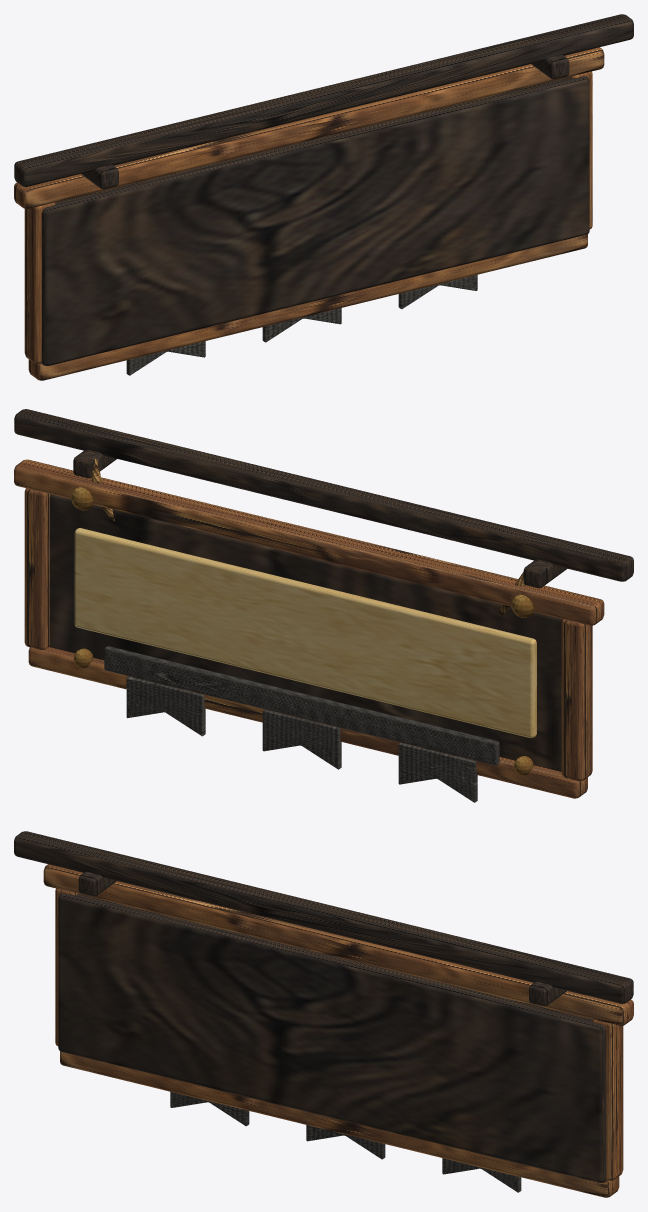
File: town-hanging-sign.glb
3 renders of one model, top to bottom at view 1: azimuth 30°, elevation 25°; view 2: azimuth 150°, elevation 25°; view 3: azimuth 330°, elevation 25°, orthographic.
Parts seen in each view (by area): view 1: town_hanging_sign_back_plate, town_hanging_sign_wall_bracket, town_hanging_sign_top_rail, town_hanging_sign_bottom_rail, town_hanging_sign_left_side_rail, town_hanging_sign_accent_pennant_0, town_hanging_sign_accent_pennant_1, town_hanging_sign_accent_pennant_2, town_hanging_sign_right_side_rail, town_hanging_sign_right_bracket_arm, town_hanging_sign_left_bracket_arm; view 2: town_hanging_sign_cream_inset, town_hanging_sign_back_plate, town_hanging_sign_wall_bracket, town_hanging_sign_top_rail, town_hanging_sign_accent_strip, town_hanging_sign_bottom_rail, town_hanging_sign_left_side_rail, town_hanging_sign_right_side_rail, town_hanging_sign_accent_pennant_0, town_hanging_sign_accent_pennant_2, town_hanging_sign_accent_pennant_1, town_hanging_sign_left_bracket_arm (+1 smaller); view 3: town_hanging_sign_back_plate, town_hanging_sign_wall_bracket, town_hanging_sign_top_rail, town_hanging_sign_bottom_rail, town_hanging_sign_right_side_rail, town_hanging_sign_accent_pennant_0, town_hanging_sign_accent_pennant_1, town_hanging_sign_accent_pennant_2, town_hanging_sign_left_side_rail, town_hanging_sign_left_bracket_arm, town_hanging_sign_right_bracket_arm.
Boxes of the visible parts, box(x1,y1,x2,y2) form: town_hanging_sign_back_plate: box(41, 76, 589, 365); town_hanging_sign_wall_bracket: box(14, 14, 633, 186); town_hanging_sign_top_rail: box(14, 47, 604, 208); town_hanging_sign_bottom_rail: box(28, 234, 587, 380); town_hanging_sign_left_side_rail: box(24, 202, 55, 363); town_hanging_sign_accent_pennant_0: box(126, 341, 205, 375); town_hanging_sign_accent_pennant_1: box(262, 308, 341, 342); town_hanging_sign_accent_pennant_2: box(398, 274, 477, 309); town_hanging_sign_right_side_rail: box(570, 71, 592, 229); town_hanging_sign_right_bracket_arm: box(531, 54, 569, 79); town_hanging_sign_left_bracket_arm: box(81, 164, 118, 189); town_hanging_sign_cream_inset: box(74, 528, 536, 737); town_hanging_sign_back_plate: box(49, 494, 562, 771); town_hanging_sign_wall_bracket: box(14, 409, 633, 581); town_hanging_sign_top_rail: box(14, 459, 604, 625); town_hanging_sign_accent_strip: box(104, 646, 499, 765); town_hanging_sign_bottom_rail: box(28, 647, 587, 798); town_hanging_sign_left_side_rail: box(561, 619, 592, 781); town_hanging_sign_right_side_rail: box(24, 488, 50, 649); town_hanging_sign_accent_pennant_0: box(398, 743, 477, 802); town_hanging_sign_accent_pennant_2: box(126, 676, 205, 736); town_hanging_sign_accent_pennant_1: box(262, 709, 341, 769); town_hanging_sign_left_bracket_arm: box(523, 559, 567, 588); town_hanging_sign_back_plate: box(58, 893, 606, 1182); town_hanging_sign_wall_bracket: box(14, 831, 633, 1003); town_hanging_sign_top_rail: box(43, 864, 633, 1025); town_hanging_sign_bottom_rail: box(60, 1051, 619, 1197); town_hanging_sign_right_side_rail: box(592, 1019, 623, 1180); town_hanging_sign_accent_pennant_0: box(170, 1091, 249, 1126); town_hanging_sign_accent_pennant_1: box(306, 1125, 385, 1159); town_hanging_sign_accent_pennant_2: box(442, 1158, 521, 1192); town_hanging_sign_left_side_rail: box(55, 888, 77, 1046); town_hanging_sign_left_bracket_arm: box(78, 871, 116, 896); town_hanging_sign_right_bracket_arm: box(529, 981, 566, 1006).
Size of the model in its own units: 4.95 by 2 by 0.54.
Materials: 6 (6 with a texture image).
